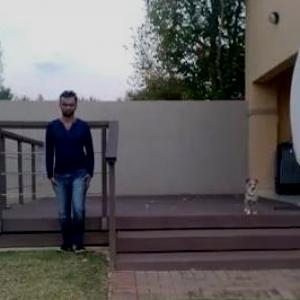follow: (45, 82, 96, 265)
